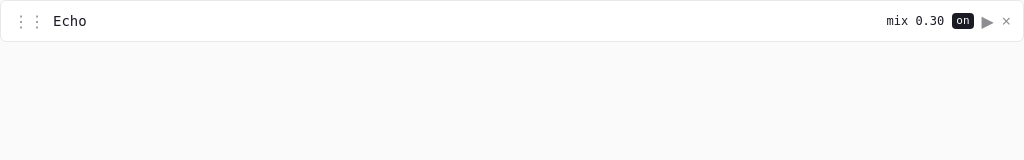
Test: SlotCard › hides children when defaultExpanded is false, and reveals on caret click
This screenshot has width=1024, height=160.
Expected: the text "echo-body" is not shown
Click the button named "Expand Echo" at (988, 21), box [982,9,994,33]
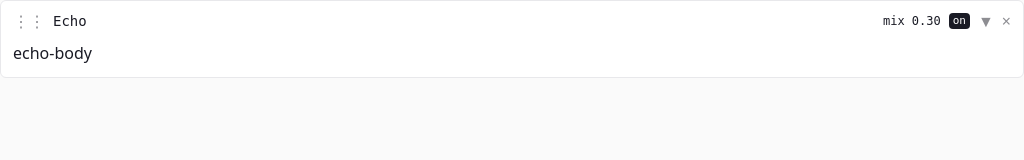
Result: the text "echo-body" is shown at [13,42,92,64]
